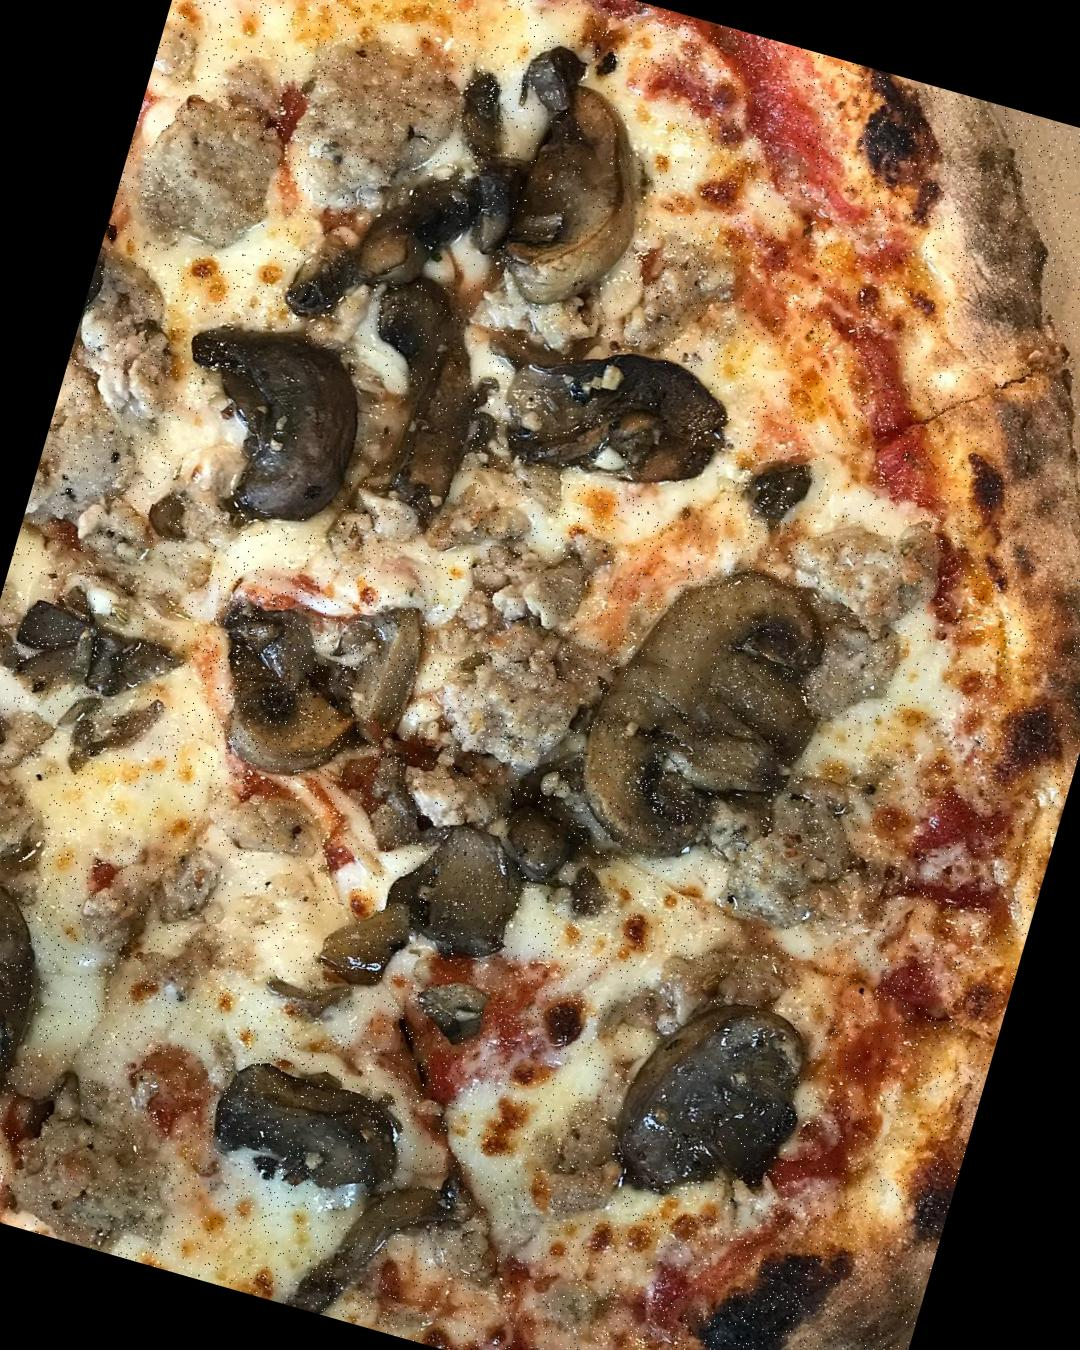Mushroom: (551, 530, 851, 888), (285, 190, 534, 522), (597, 966, 823, 1232), (174, 560, 431, 793), (479, 45, 682, 315), (495, 317, 757, 521), (174, 318, 381, 540), (191, 1036, 424, 1218), (0, 852, 89, 1181)
Pizza: (0, 0, 1080, 1350)
